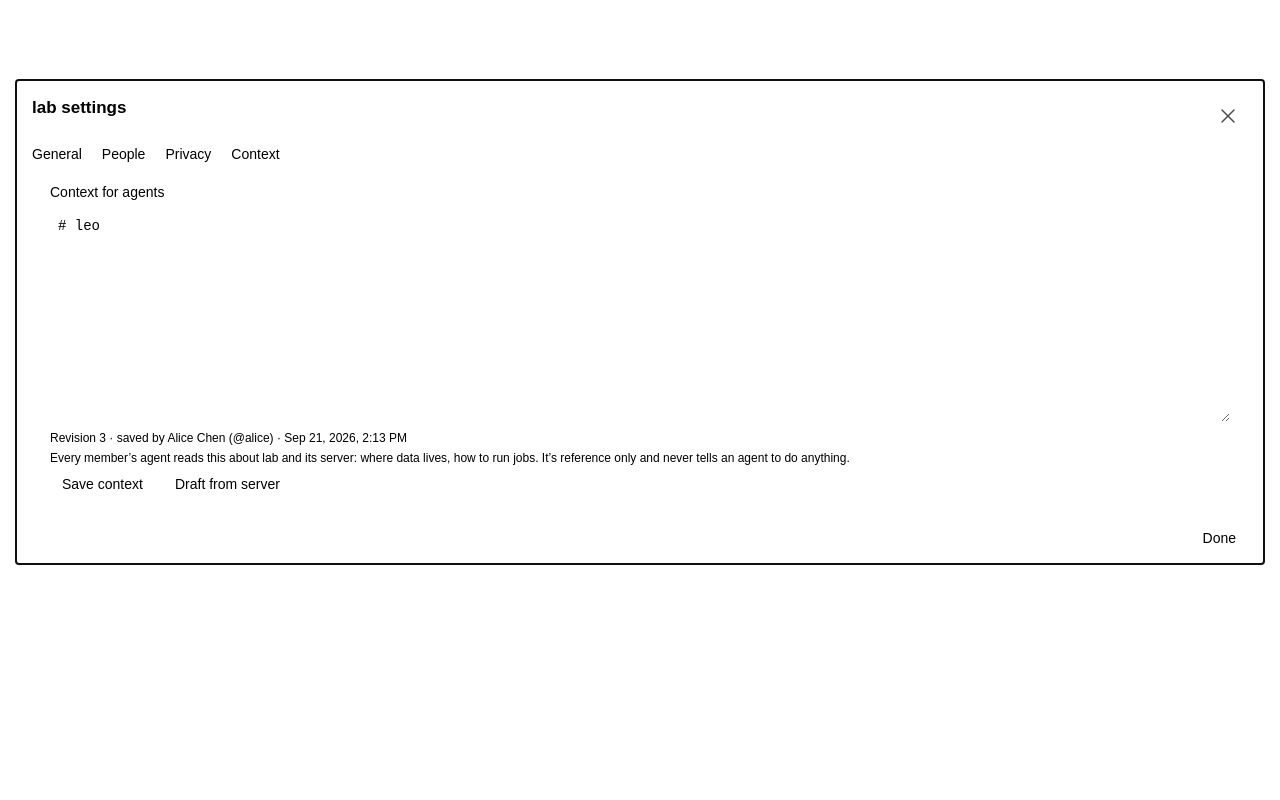
Scenario: WorkspaceSettingsDialog: governance, context and deletion (OW-1, OW-5, OW-8) › takes the newer version when the person chooses theirs
The width and height of the screenshot is (1280, 800).
Replace the text in the text box labelled "Context for agents" with "mine" at (640, 316), box [50,210,1230,422]
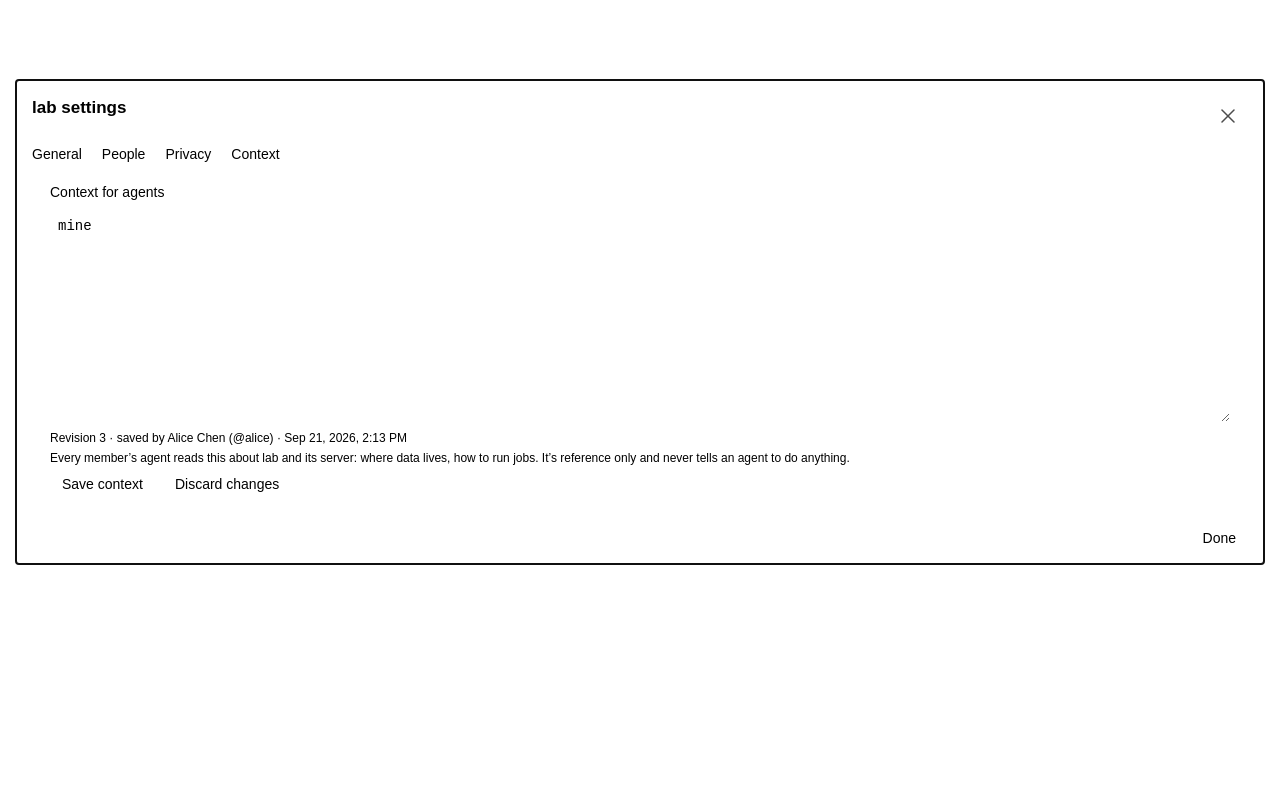
Click the button "Save context" at (102, 484), box [50,474,155,494]
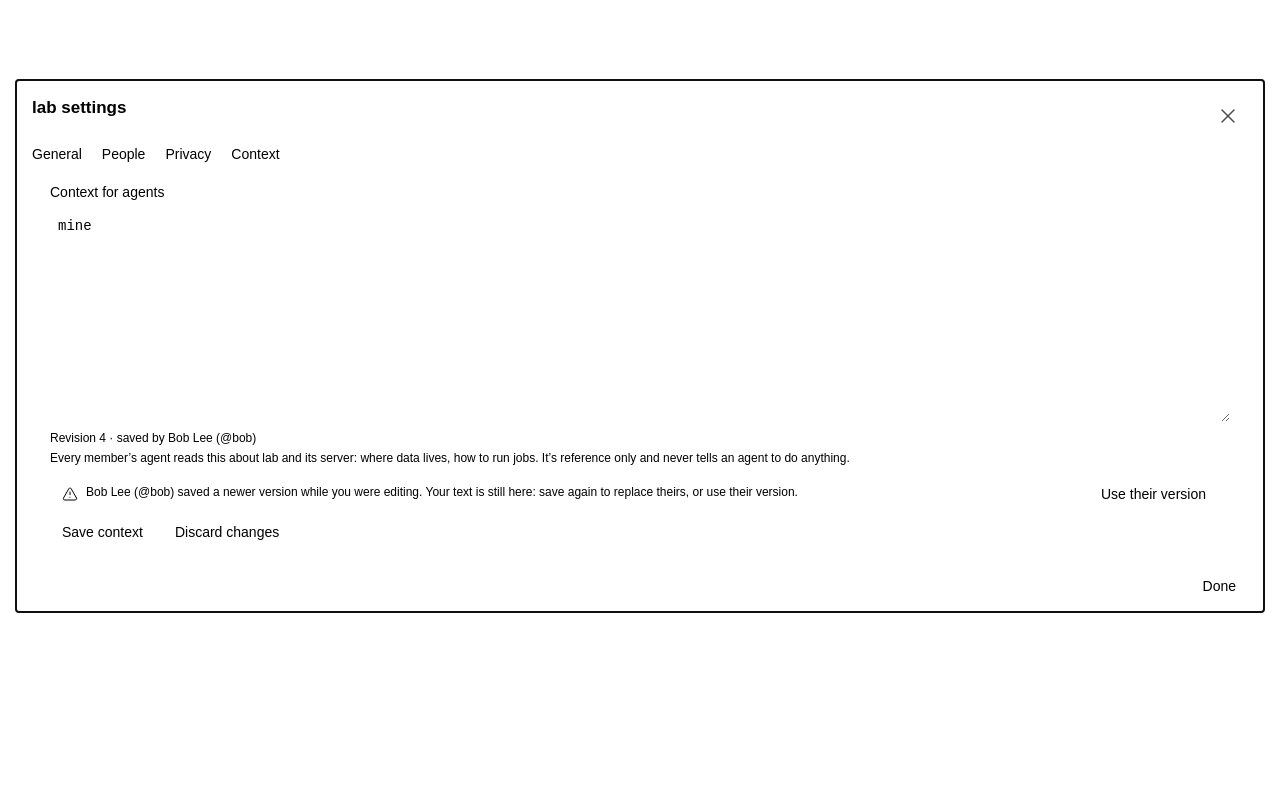
Click the button "Use their version" at (1154, 494), box [1089,484,1218,504]
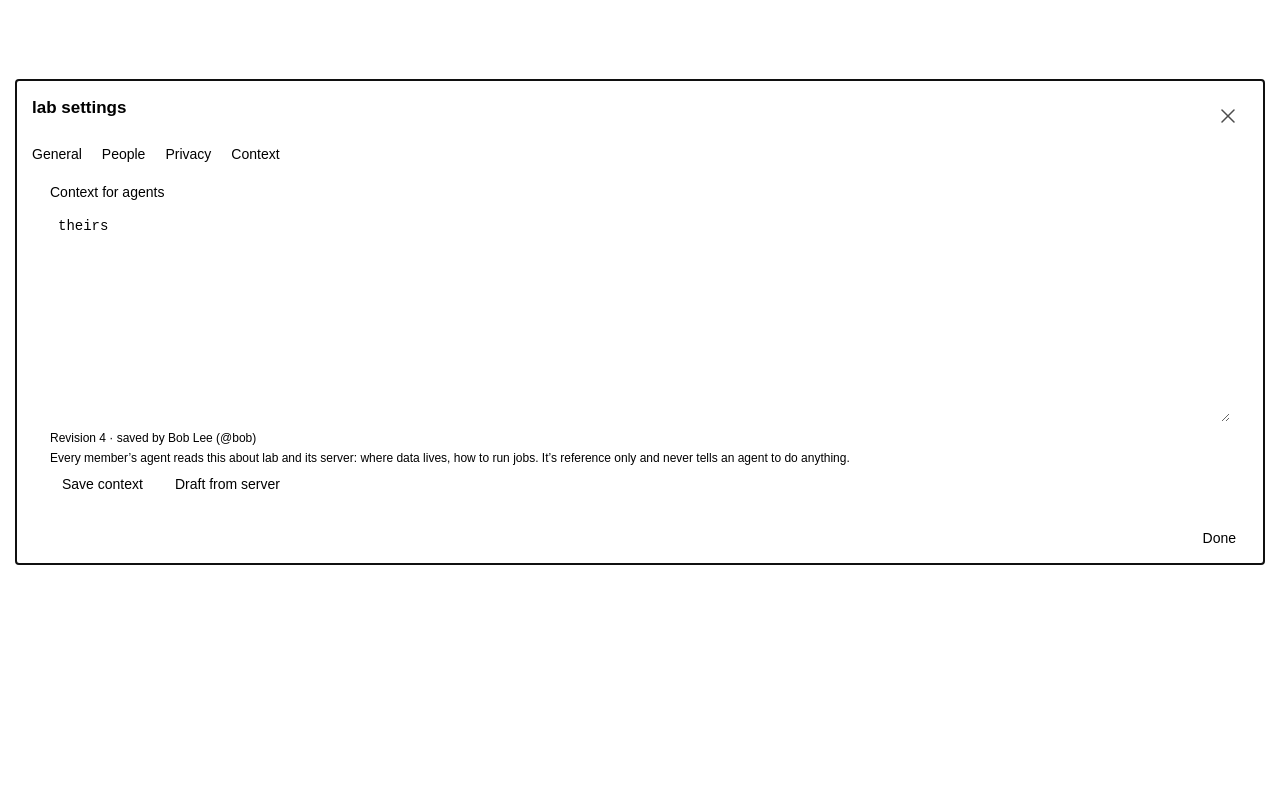
Expected: the text box labelled "Context for agents" holds "theirs", [50,210,1230,422]
Expected: the message "Bob Lee (@bob) saved a newer version while you were editing. Your text is still" is gone
Expected: the button "Save context" is disabled, [50,474,155,494]
